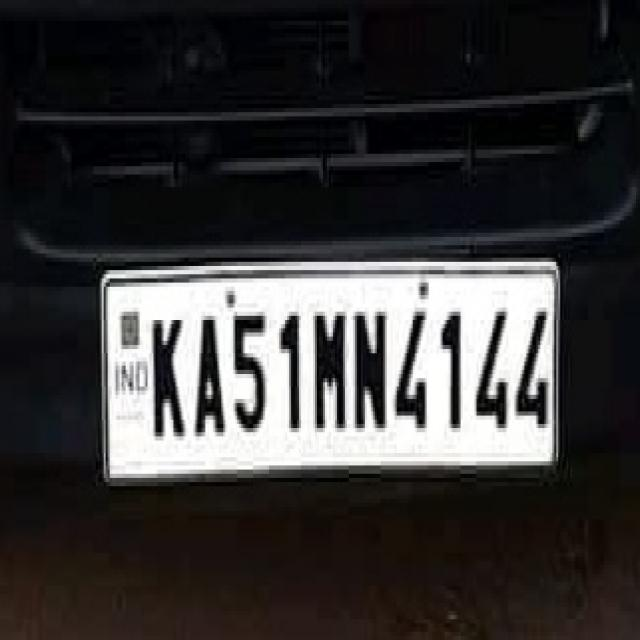1: (438, 298, 466, 451), (274, 302, 304, 441)
4: (393, 297, 432, 442), (472, 302, 512, 438), (514, 302, 552, 441)
5: (230, 310, 267, 438)
A: (190, 305, 225, 445)
K: (146, 302, 188, 449)
M: (310, 298, 347, 437)
N: (351, 297, 388, 442)
